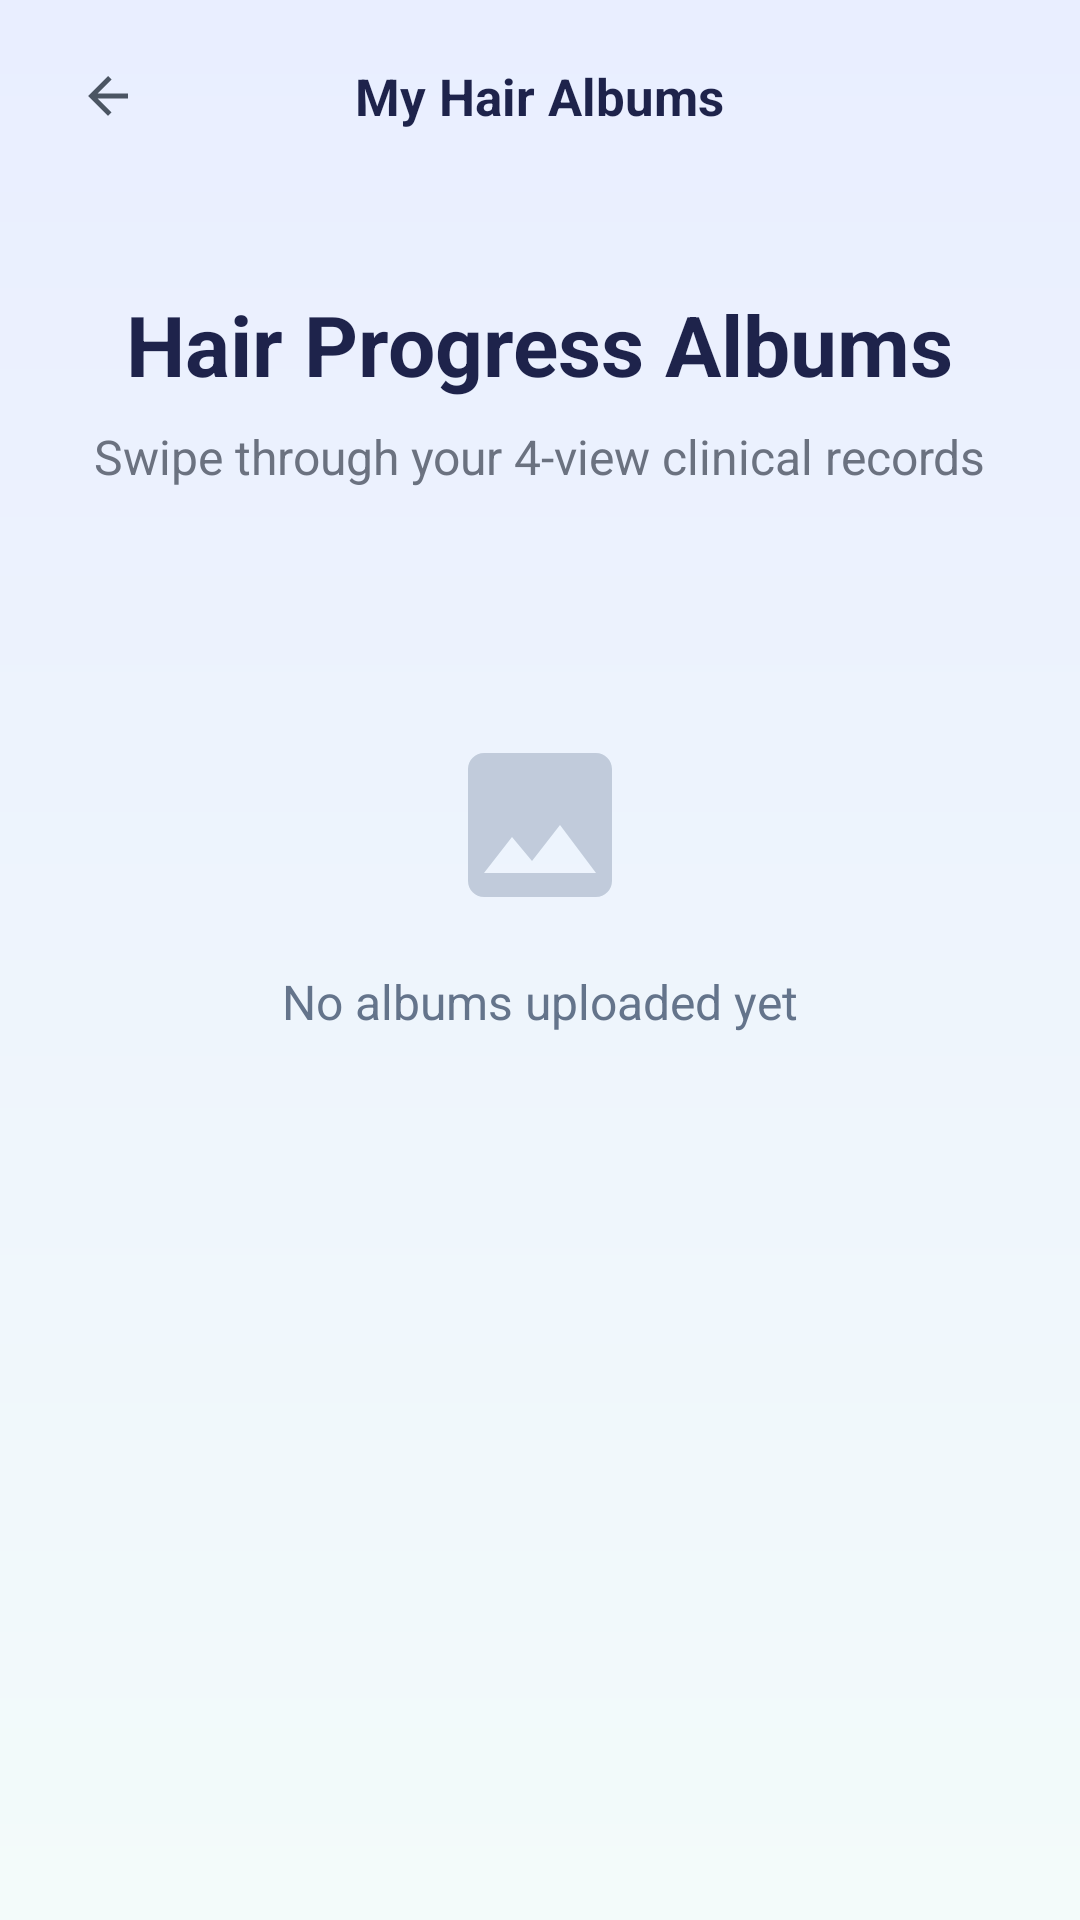

Named icons in this screenshot (1080*1920) and their bounding boxes, (x1, y1, x2, y2):
back: (88, 76, 128, 116)
images: (468, 753, 612, 897)
